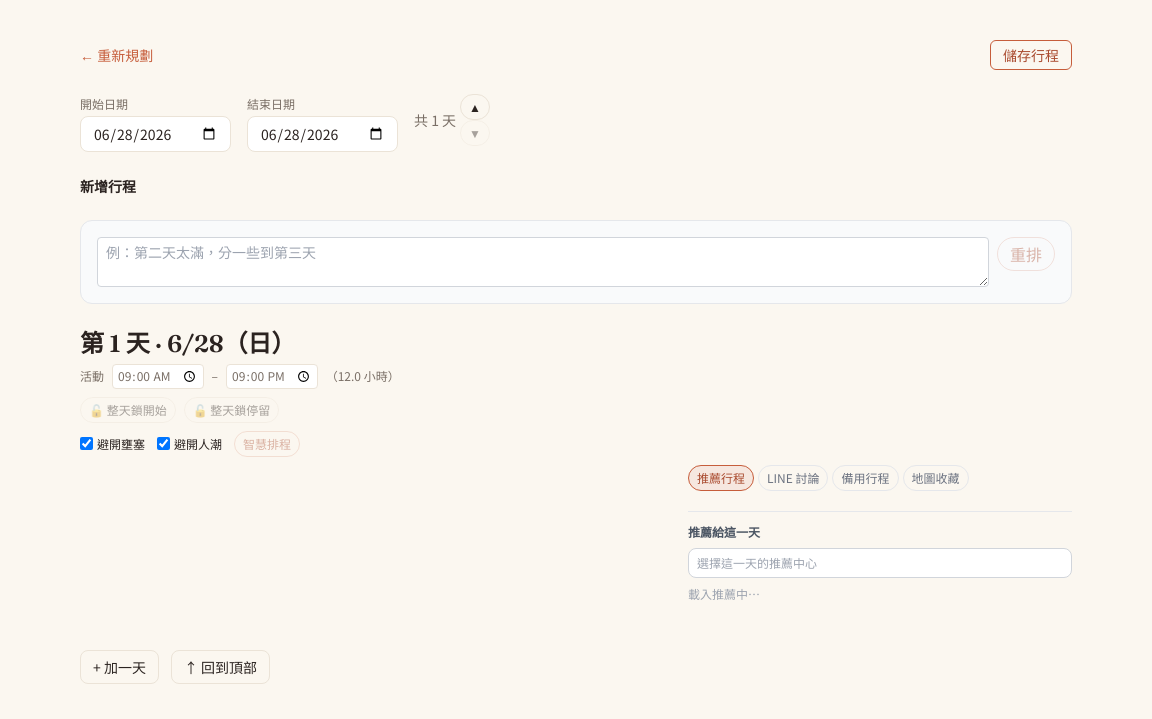
Test: clicking ▲ appends an empty day
Click the button with test id "day-count-stepper-up": (475, 107) x1=460 y1=94 x2=490 y2=120
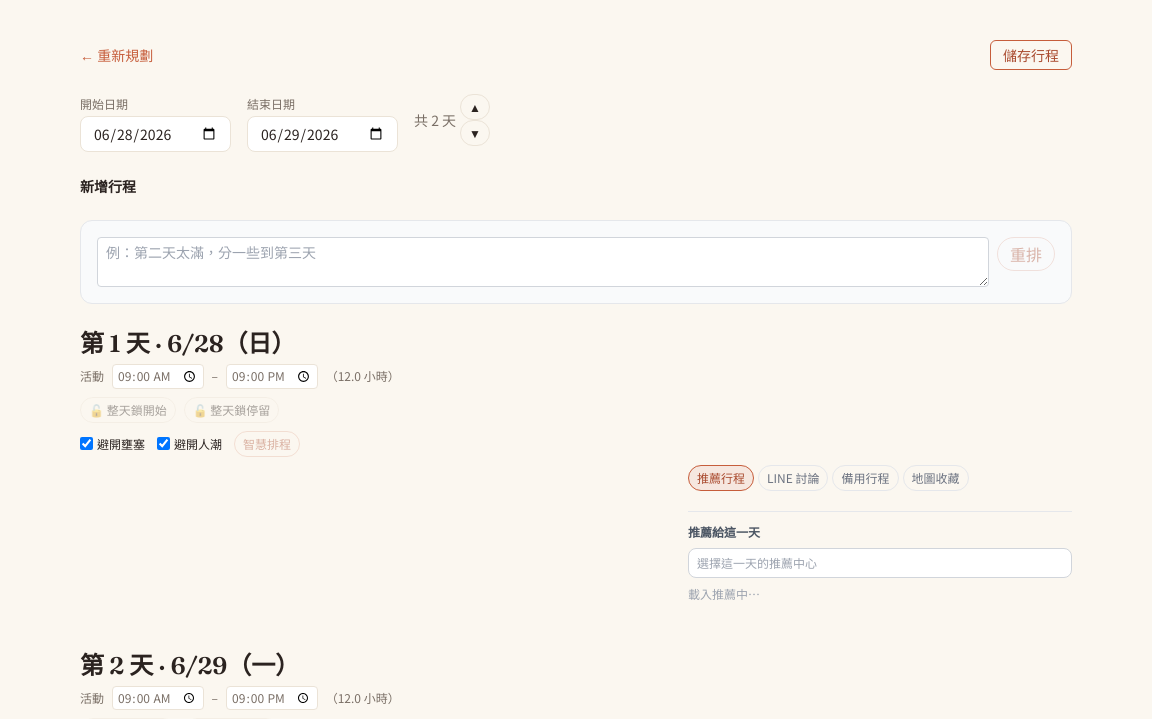
Expected: the text "共 2 天" is shown, x1=414 y1=110 x2=456 y2=130
Expected: the heading "第 2 天 · 6/29（一）" is shown, x1=80 y1=651 x2=299 y2=680
